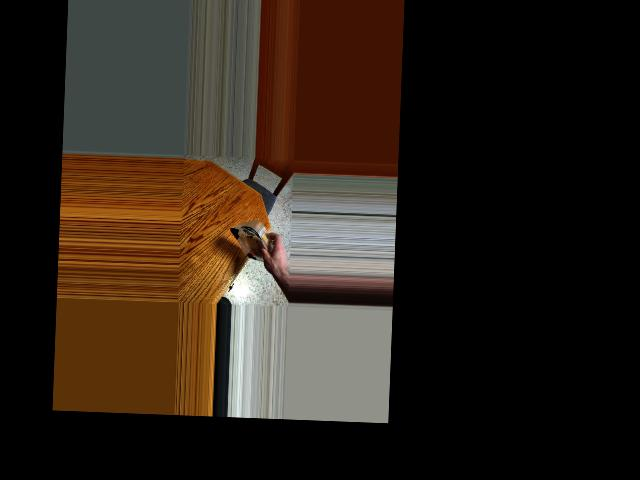cheese: (230, 215, 272, 274)
